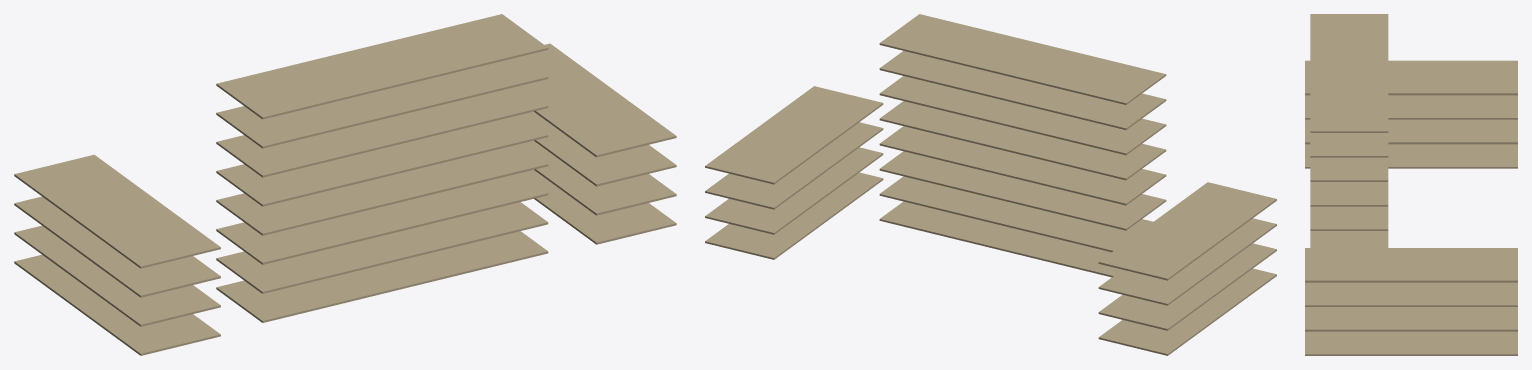
Rendered from KOL_T1_SONAR__Internal_Shell.fbx.
3 views of the same model, side by side, from view 1: azimuth 30°, elevation 25°; view 2: azimuth 150°, elevation 25°; view 3: azimuth 270°, elevation 25° (orthographic). The views are drawn at different scales.
Visible parts, largest first — view 1: KOL_T1_SONAR__Internal_Shell__KOL_T1_Stone; view 2: KOL_T1_SONAR__Internal_Shell__KOL_T1_Stone; view 3: KOL_T1_SONAR__Internal_Shell__KOL_T1_Stone.
Part boxes in pixels (left/top/right/bottom): KOL_T1_SONAR__Internal_Shell__KOL_T1_Stone: left=14, top=14, right=676, bottom=355; KOL_T1_SONAR__Internal_Shell__KOL_T1_Stone: left=705, top=14, right=1276, bottom=355; KOL_T1_SONAR__Internal_Shell__KOL_T1_Stone: left=1305, top=14, right=1517, bottom=355.
Size of the model in its own units: 193 by 70.7 by 78.8.
